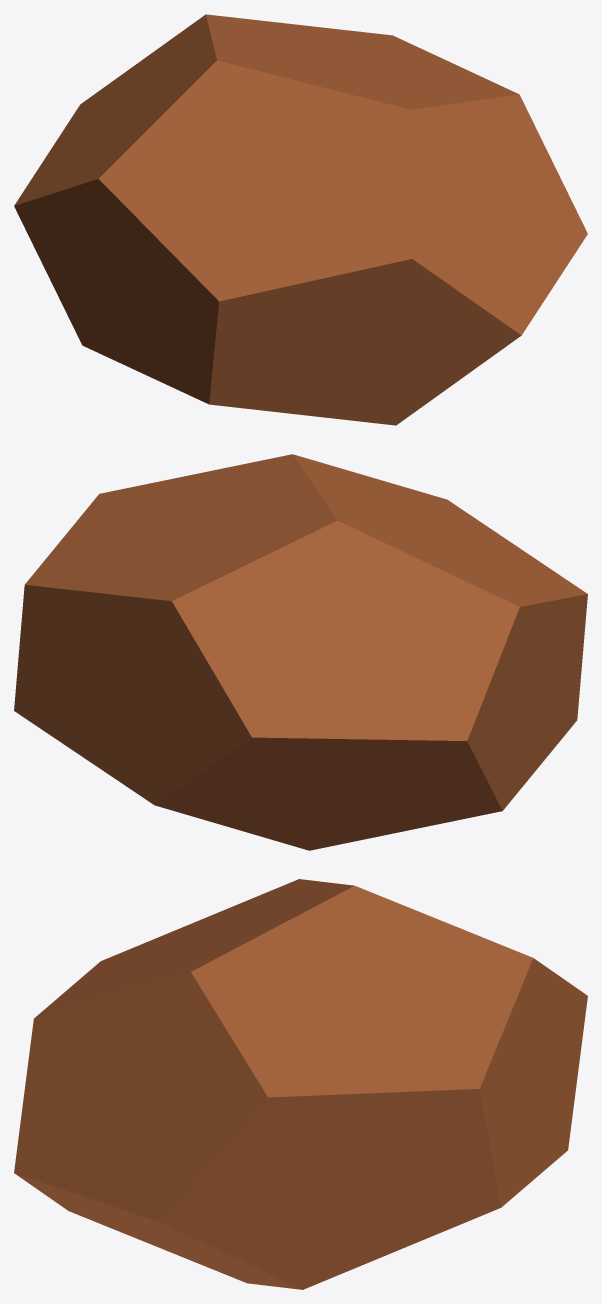
The model's file is rock_red.glb.
3 renders of one model, top to bottom at view 1: azimuth 30°, elevation 25°; view 2: azimuth 150°, elevation 25°; view 3: azimuth 270°, elevation 25°, orthographic. The views are drawn at different scales.
Visible parts, largest first — view 1: RockRed; view 2: RockRed; view 3: RockRed.
Part boxes in pixels (<box>): RockRed: <box>14,14,587,425</box>; RockRed: <box>14,454,587,850</box>; RockRed: <box>14,879,587,1289</box>.
Bounding box in the file's own units: 1.06 × 0.7156 × 1.11.
